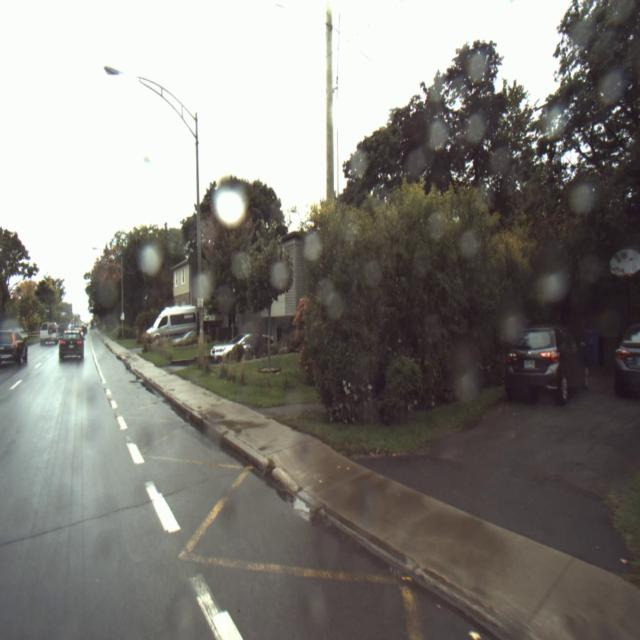car: (505, 325, 591, 405), (209, 333, 274, 365), (616, 318, 640, 399), (0, 329, 29, 369), (58, 330, 84, 363), (40, 322, 58, 346)
